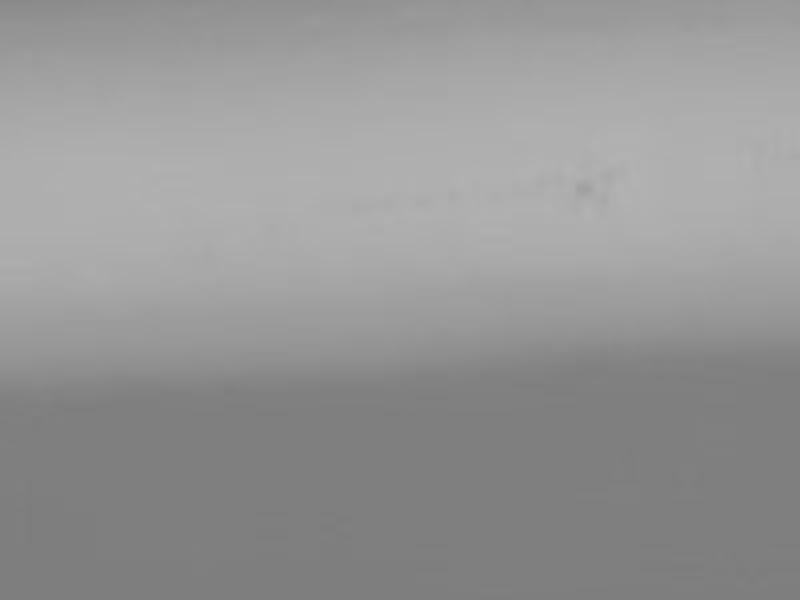defect: (571, 175, 596, 197)
